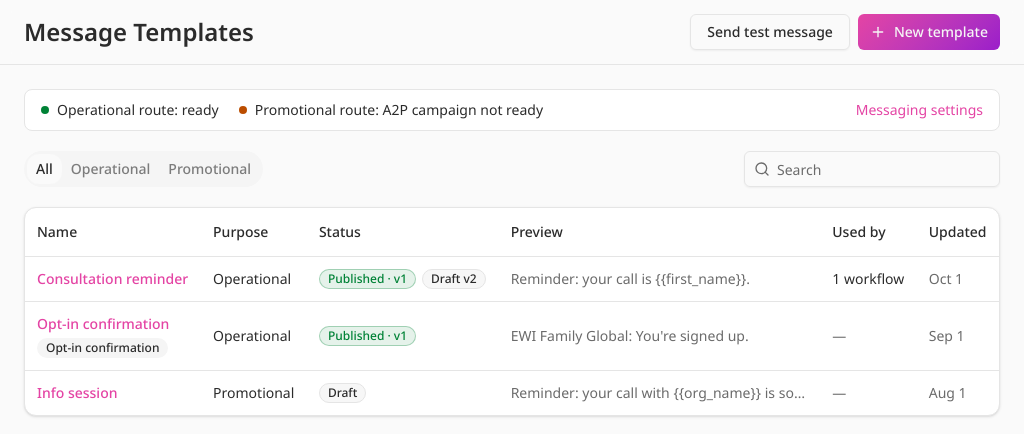
Scenario: Message Templates list › filters by purpose and search
The width and height of the screenshot is (1024, 434).
Click the tab "Promotional". click: (210, 169)
box: [159,154,260,184]
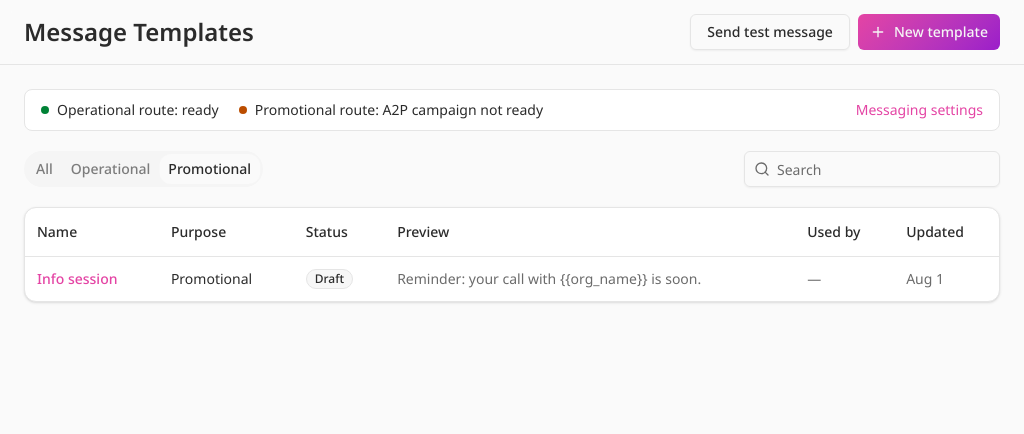
Expected: the link "Info session" is shown, [37,268,118,288]
Type "nothing" into the search field named "Search templates". click: (872, 169)
box: [744,151,1000,187]
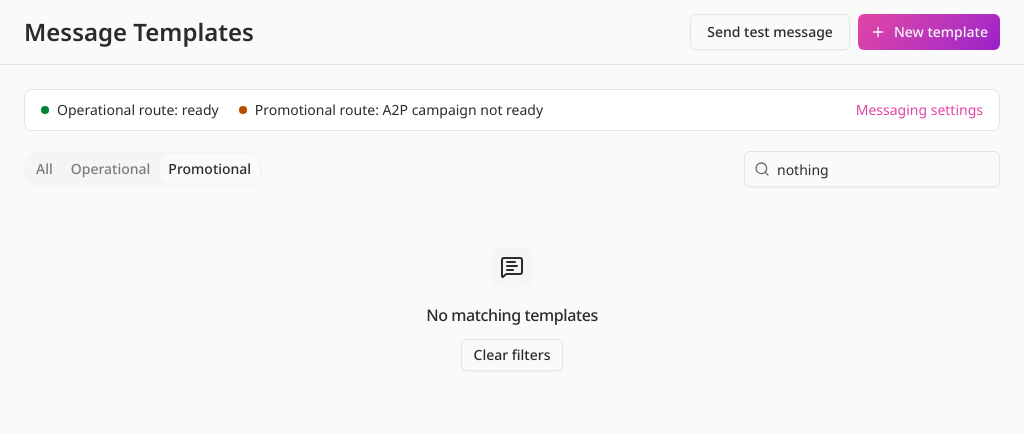
Expected: the heading "No matching templates" is shown, [426,303,598,327]
